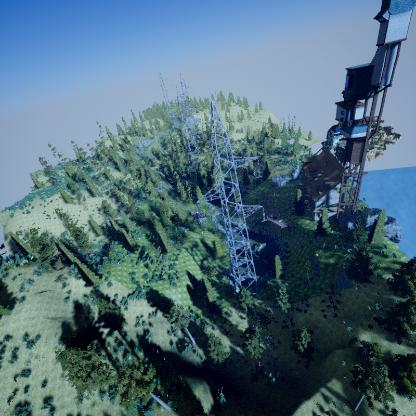tower: (195, 101, 270, 301)
